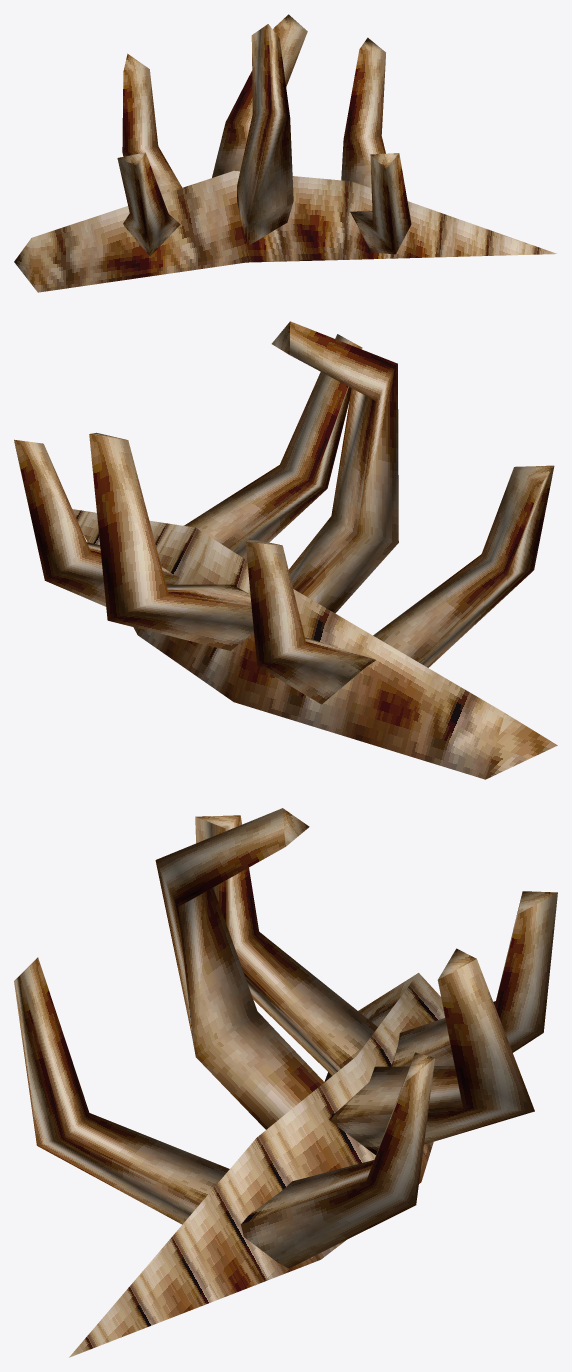
The model's file is blastedlandsspine01.obj.
3 views of the same model, one above another, from view 1: azimuth 30°, elevation 25°; view 2: azimuth 150°, elevation 25°; view 3: azimuth 270°, elevation 25° (orthographic). The views are drawn at different scales.
Visible parts, largest first — view 1: blastedlandsspine01; view 2: blastedlandsspine01; view 3: blastedlandsspine01.
Boxes of the visible parts, left/top/right/bottom form: blastedlandsspine01: left=14, top=14, right=556, bottom=292; blastedlandsspine01: left=14, top=321, right=557, bottom=779; blastedlandsspine01: left=14, top=808, right=557, bottom=1357.
Size of the model in its own units: 1.03 by 0.5626 by 0.7012.
1 material, 1 textured.
